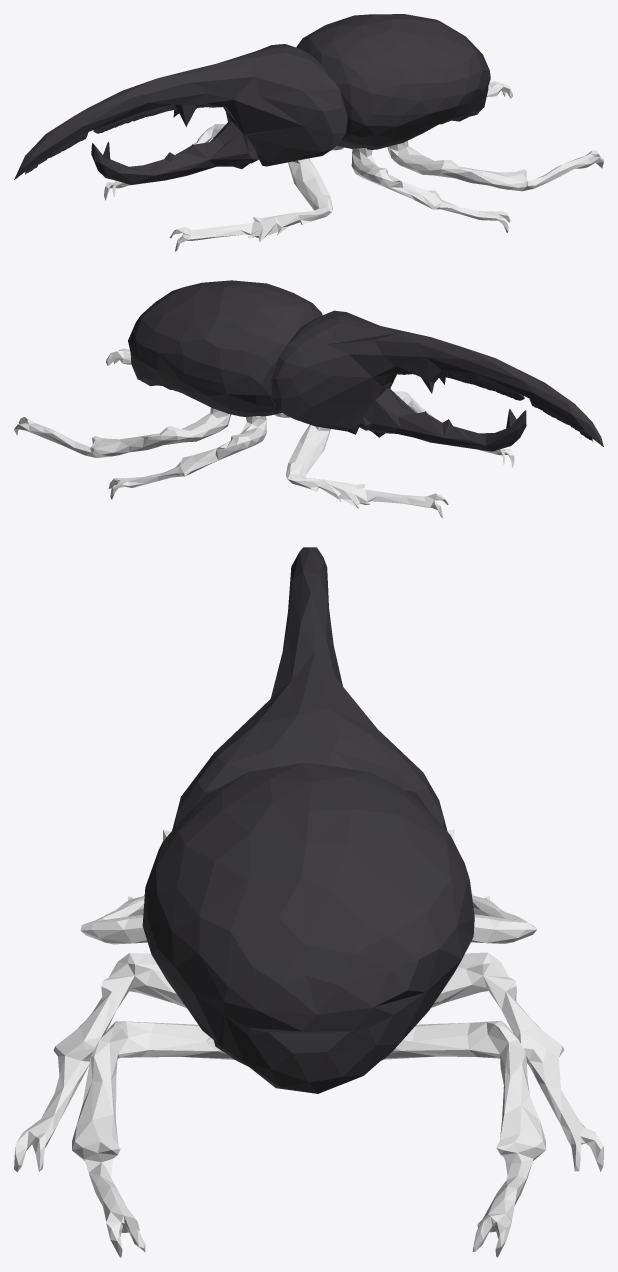
Rendered from shiny beetle enemy.fbx.
The picture shows the model from 3 angles, top to bottom: view 1: azimuth 30°, elevation 25°; view 2: azimuth 150°, elevation 25°; view 3: azimuth 270°, elevation 25°; orthographic projection. The views are drawn at different scales.
Visible parts, largest first — view 1: beetle main body, beetle joints left side, beetle bottom jaw, beetle joints right side; view 2: beetle main body, beetle joints right side, beetle bottom jaw, beetle joints left side; view 3: beetle main body, beetle joints left side, beetle joints right side.
Part boxes in pixels (x1,y1,x2,y2): beetle main body: (14,14,490,179); beetle joints left side: (169,140,603,251); beetle bottom jaw: (91,121,256,184); beetle joints right side: (104,81,512,200); beetle main body: (128,280,603,446); beetle joints right side: (14,407,448,517); beetle bottom jaw: (361,387,526,451); beetle joints left side: (106,348,514,467); beetle main body: (142,547,474,1093); beetle joints left side: (14,829,234,1257); beetle joints right side: (383,829,603,1257).
Size of the model in its own units: 3274 by 969 by 1595.
4 materials, 2 textured.
